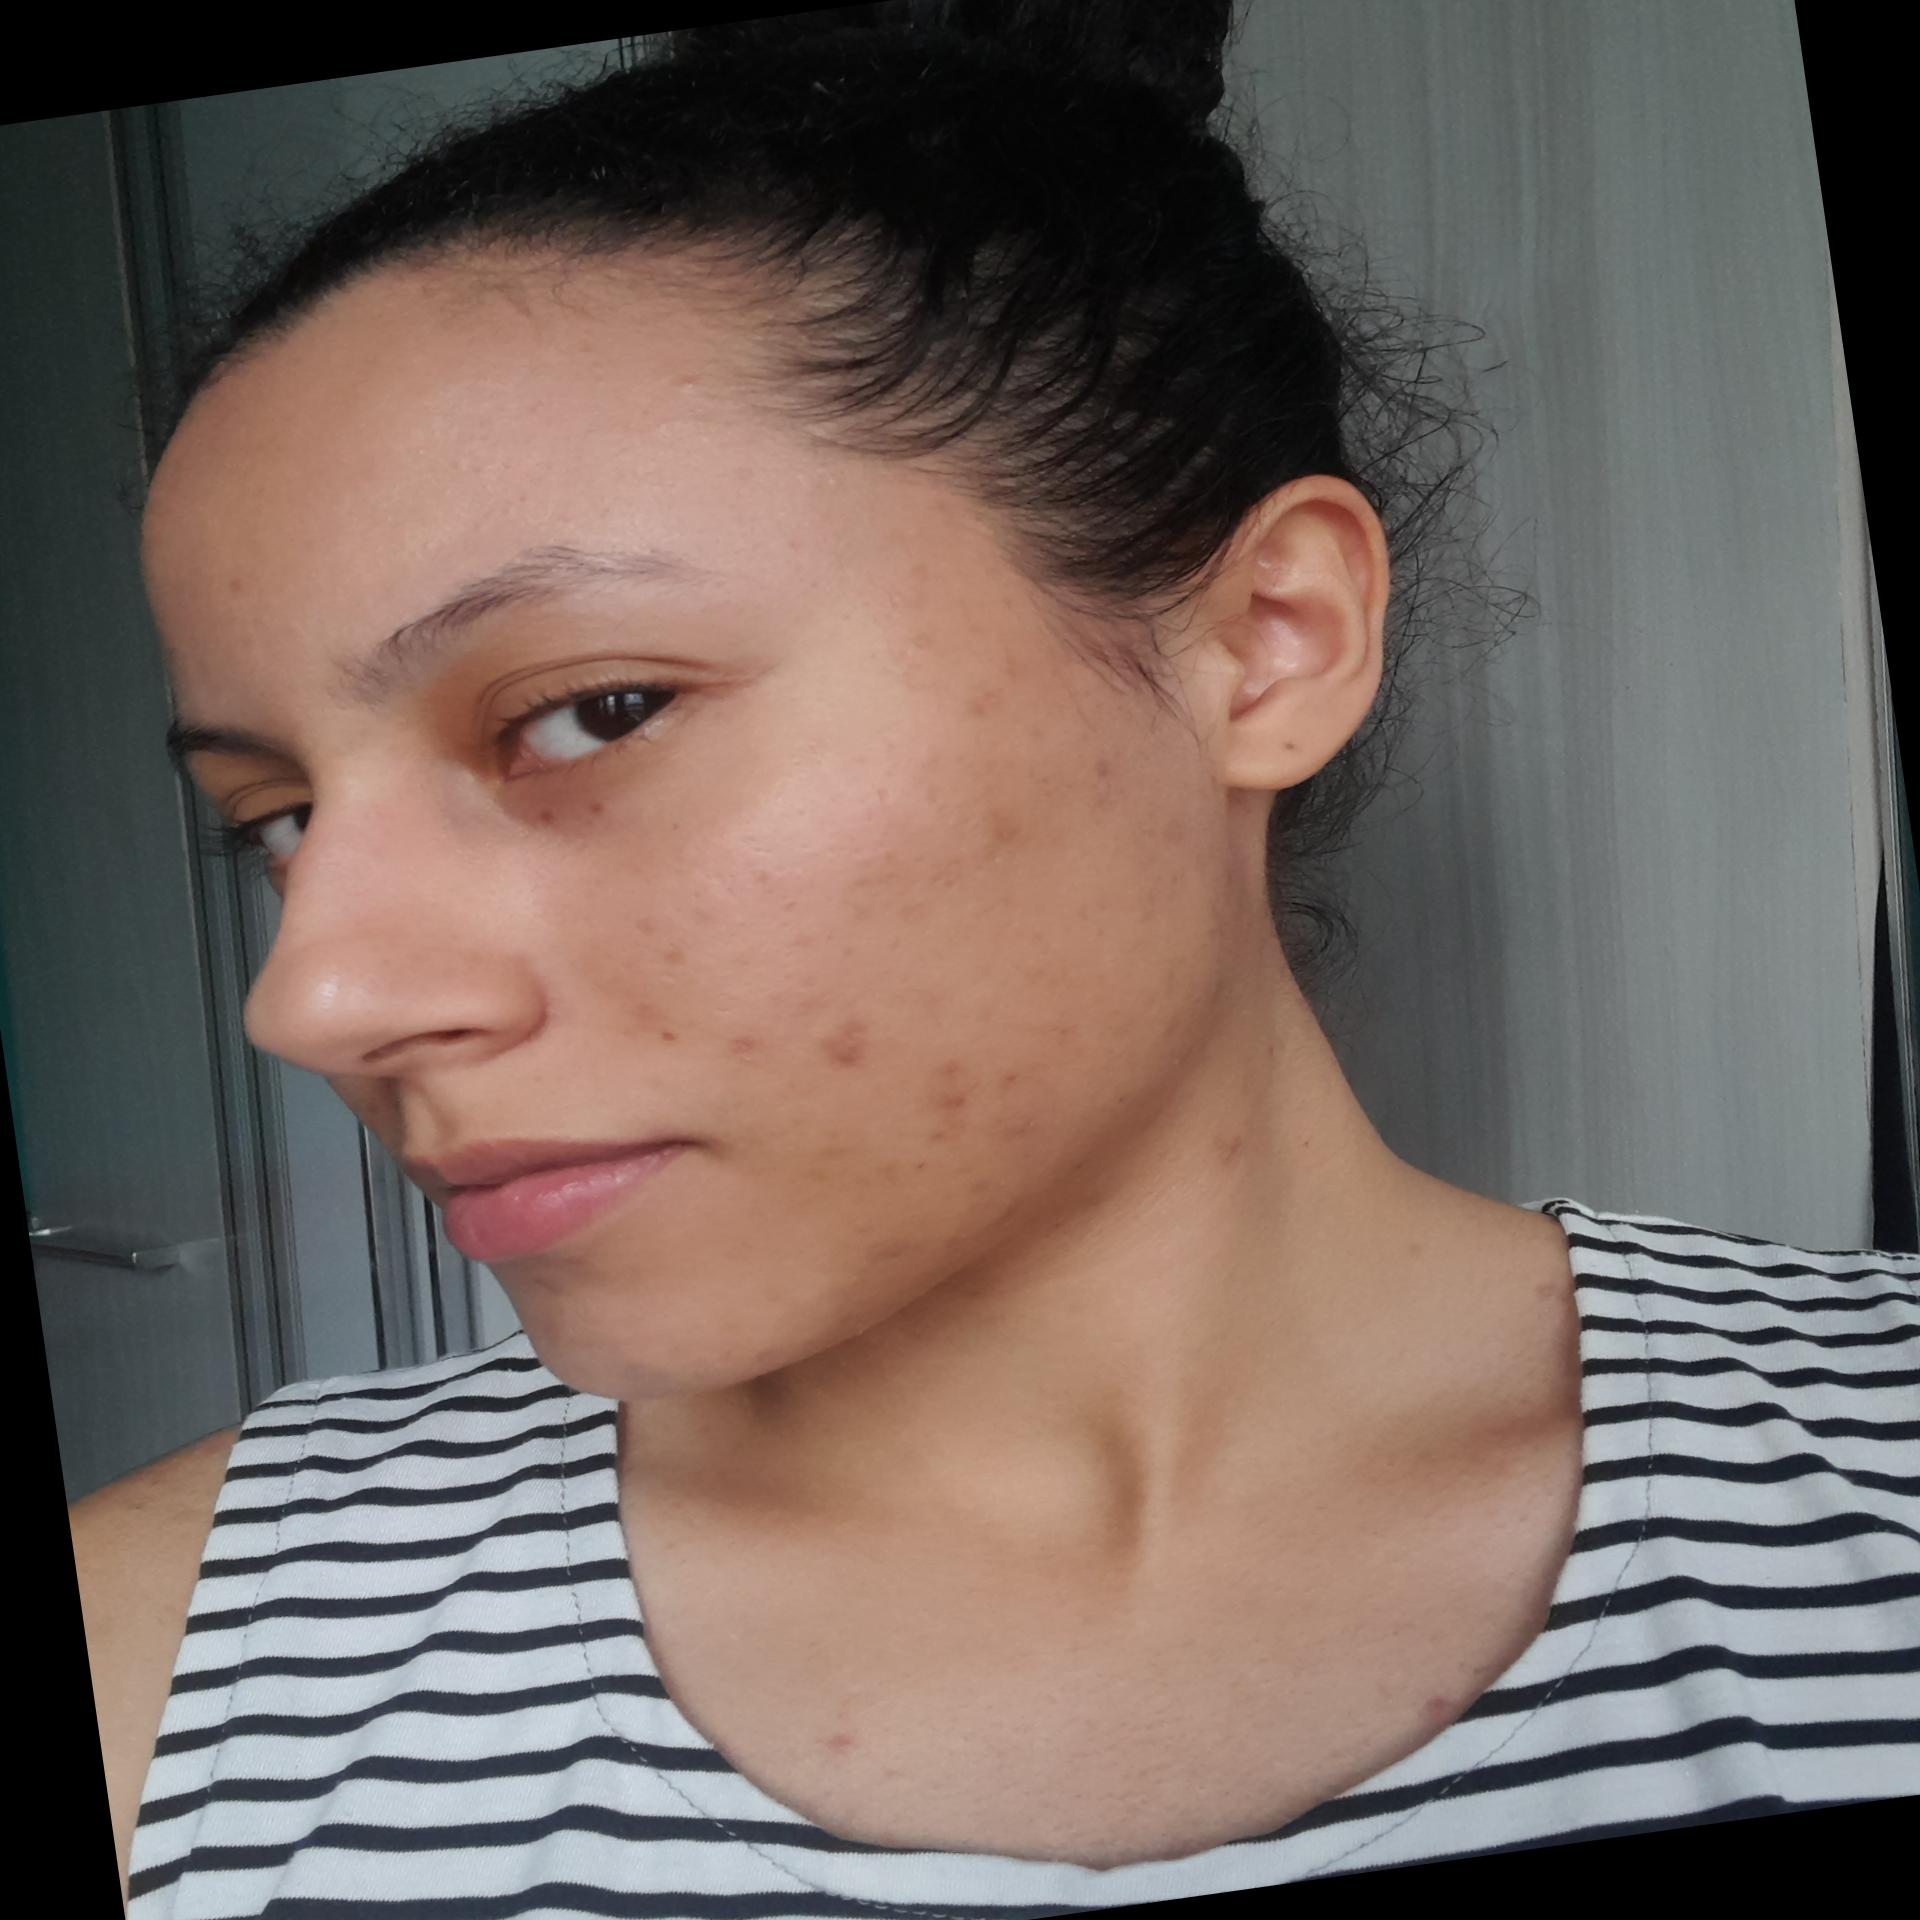Acne: (953, 647, 1034, 723), (805, 1011, 877, 1080), (971, 809, 1036, 855), (703, 1025, 765, 1067), (1081, 745, 1125, 802), (913, 1051, 979, 1088), (434, 436, 487, 480), (471, 487, 526, 529), (814, 1139, 851, 1194), (1143, 812, 1199, 847), (890, 631, 942, 666), (1034, 1016, 1095, 1046), (867, 1234, 921, 1268), (644, 1022, 695, 1055), (658, 367, 703, 404), (993, 1060, 1037, 1094), (925, 1087, 976, 1115), (839, 1213, 881, 1241), (651, 930, 687, 962), (1011, 1115, 1051, 1143), (921, 1120, 958, 1146), (904, 1155, 939, 1182)
Englarged Pores: (672, 809, 811, 914), (693, 935, 832, 1018)
